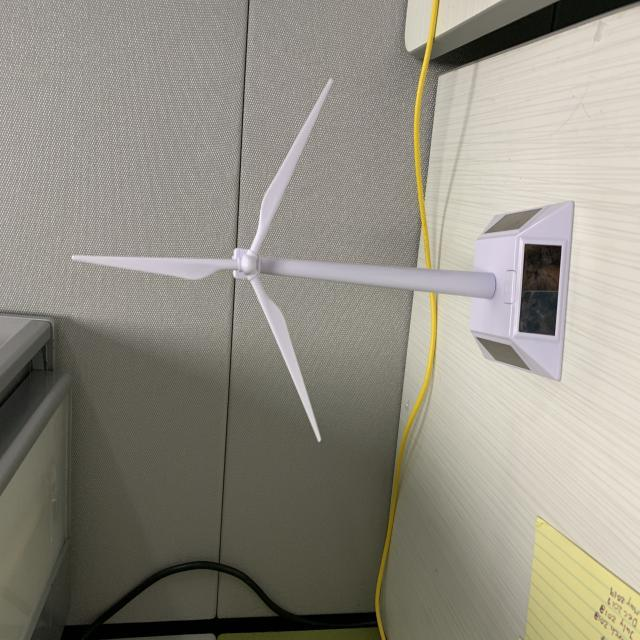solid-blade: (250, 79, 332, 253), (249, 274, 321, 441), (72, 256, 234, 279)
